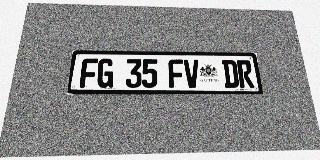3: (125, 59, 142, 88)
5: (142, 59, 158, 88)
D: (222, 60, 239, 88)
F: (79, 58, 98, 88), (168, 59, 184, 88)
G: (96, 58, 114, 88)
R: (236, 60, 255, 88)
V: (184, 59, 200, 88)
